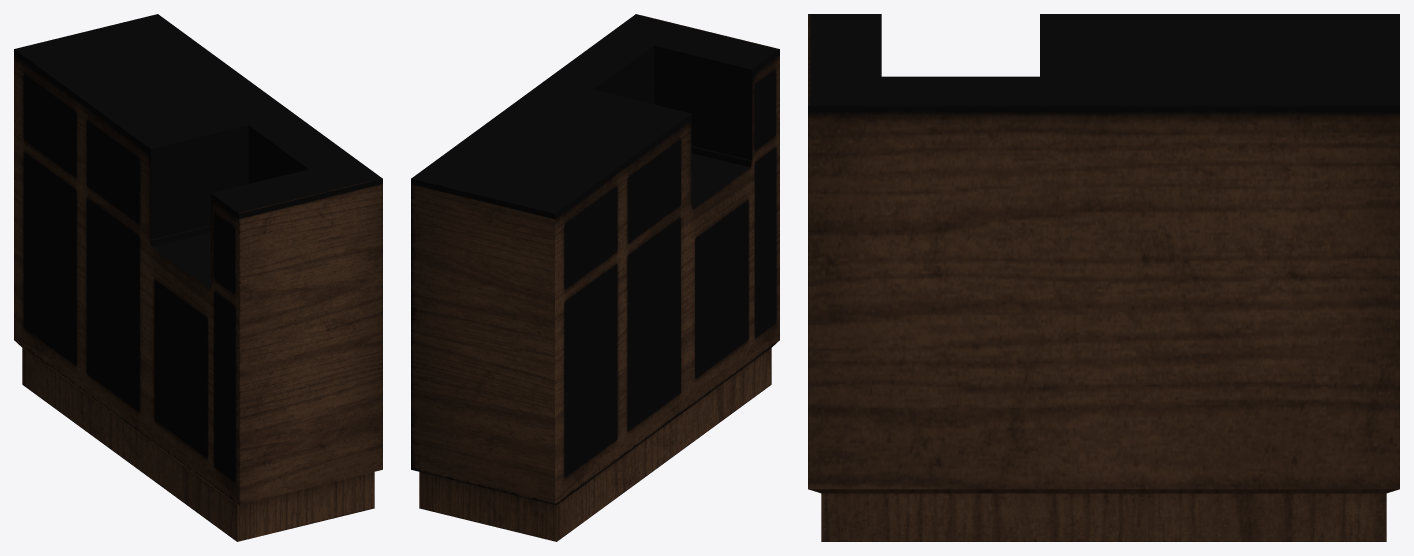
Rendered from counter.gltf.
3 views of the same model, side by side, from view 1: azimuth 30°, elevation 25°; view 2: azimuth 150°, elevation 25°; view 3: azimuth 270°, elevation 25° (orthographic). The views are drawn at different scales.
Parts seen in each view (by area): view 1: model_1.001; view 2: model_1.001; view 3: model_1.001.
Boxes of the visible parts, box(x1,y1,x2,y2) form: model_1.001: box(14, 14, 382, 541); model_1.001: box(411, 14, 779, 541); model_1.001: box(808, 14, 1399, 541).
Size of the model in its own units: 0.6516 by 1.44 by 1.76.
Materials: 1 (1 with a texture image).
